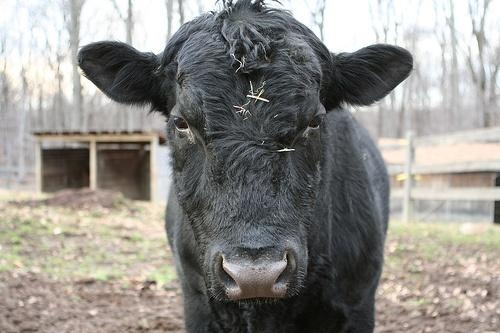cow: (77, 1, 415, 333)
